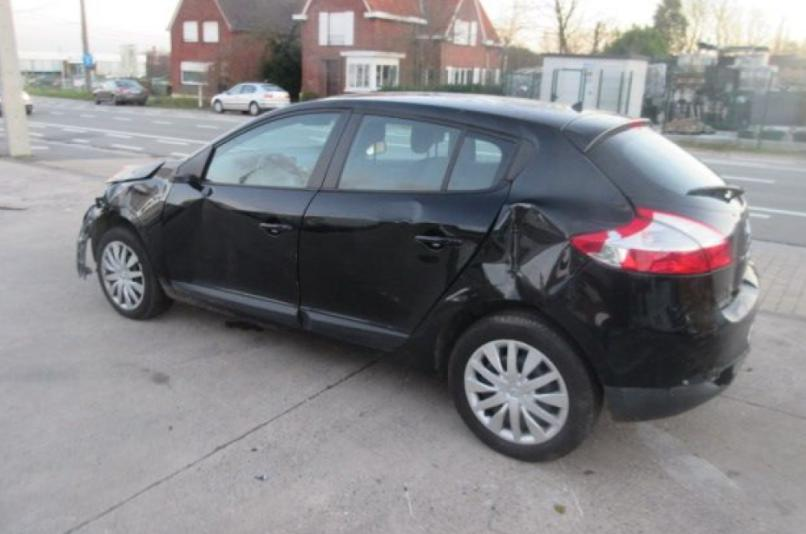Back-bumper: (579, 252, 760, 425)
Back-door: (299, 109, 537, 335)
Back-wheel: (450, 311, 601, 461)
Back-window: (322, 112, 461, 191), (447, 132, 511, 190)
Back-windshield: (582, 125, 740, 214)
Fender: (77, 163, 182, 288)
Front-door: (161, 109, 352, 302)
Front-wheel: (91, 221, 172, 321)
Front-window: (204, 113, 357, 187)
Hood: (106, 163, 164, 184)
Mirror: (175, 145, 210, 193)
Quarter-panel: (397, 184, 636, 387)
Rocker-panel: (166, 278, 410, 353)
Roof: (279, 92, 608, 152)
Tail-light: (569, 209, 733, 277)
Trunk: (646, 197, 752, 294), (562, 113, 658, 154)
